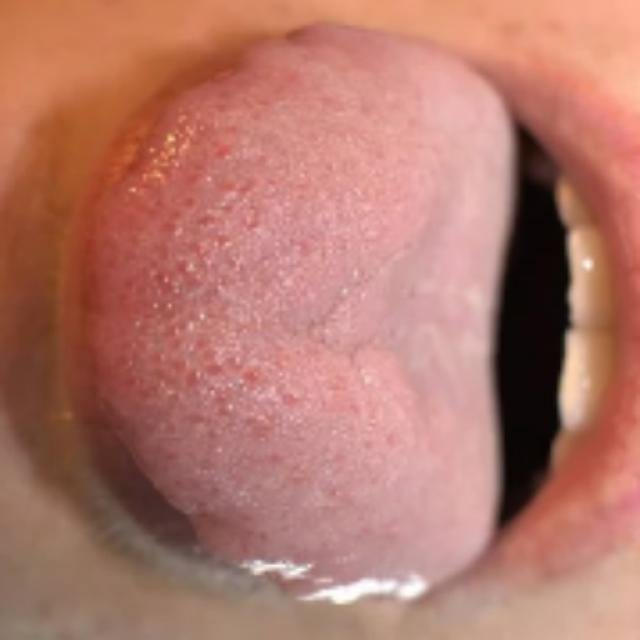processing_area: (97, 30, 516, 592)
